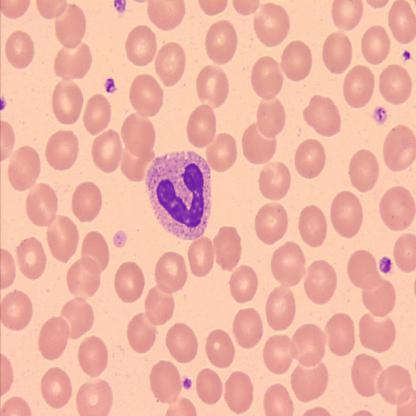Band Neutrophil: (144, 148, 212, 240)
